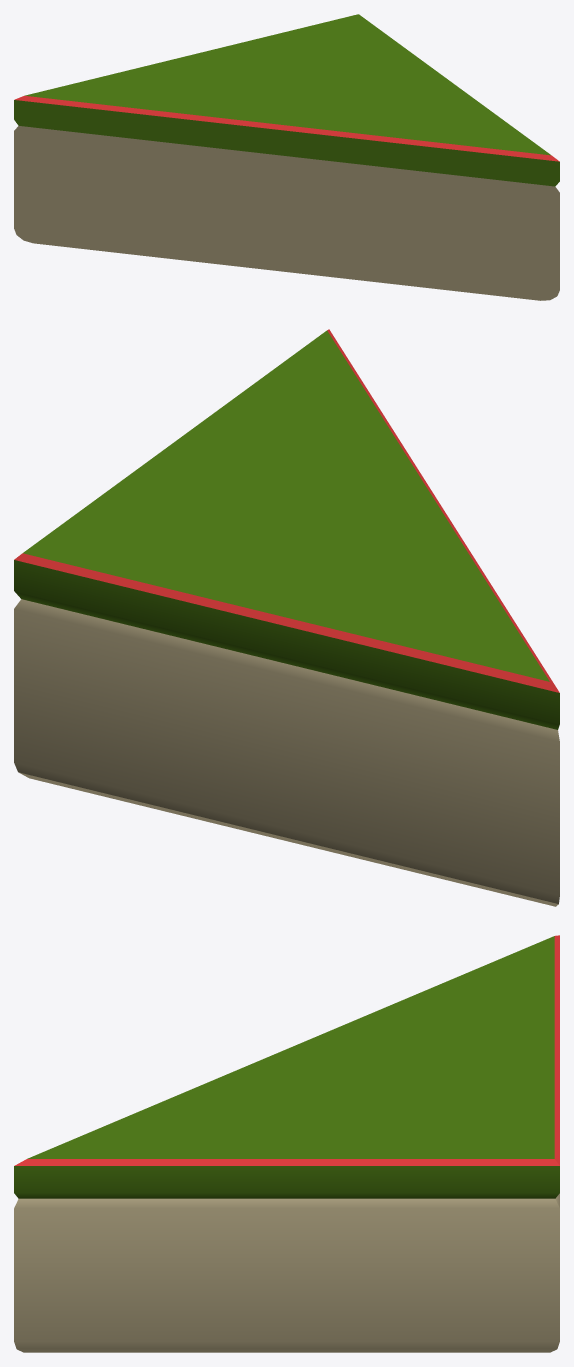
The model's file is tile slice.fbx.
3 renders of one model, top to bottom at view 1: azimuth 30°, elevation 25°; view 2: azimuth 150°, elevation 25°; view 3: azimuth 270°, elevation 25°, orthographic. The views are drawn at different scales.
Parts seen in each view (by area): view 1: Tile.001; view 2: Tile.001; view 3: Tile.001.
Part boxes in pixels (x1,y1,x2,y2): Tile.001: (14, 14, 559, 300); Tile.001: (14, 329, 559, 906); Tile.001: (14, 935, 559, 1352).
Size of the model in its own units: 200 by 80 by 200.
